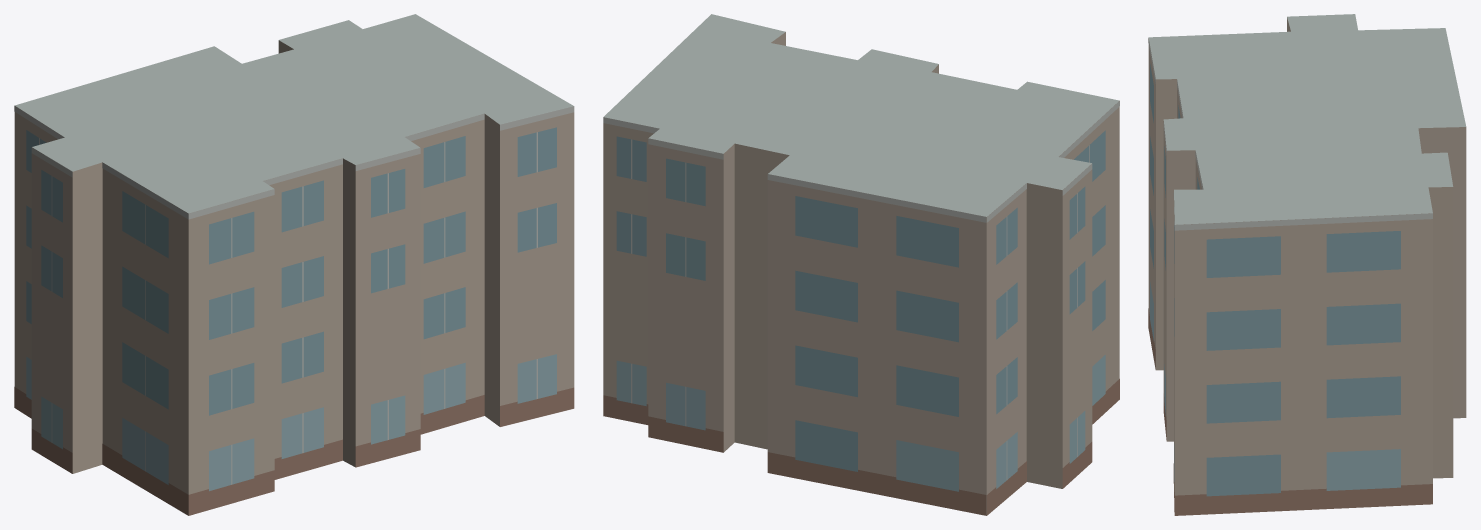
The model's file is survey-upis-32757056.glb.
3 views of the same model, side by side, from view 1: azimuth 30°, elevation 25°; view 2: azimuth 150°, elevation 25°; view 3: azimuth 270°, elevation 25° (orthographic). The views are drawn at different scales.
Parts seen in each view (by area): view 1: survey-upis-32757056.tmp; view 2: survey-upis-32757056.tmp; view 3: survey-upis-32757056.tmp.
Boxes of the visible parts, bbox=[...] form: survey-upis-32757056.tmp: bbox=[14, 14, 574, 515]; survey-upis-32757056.tmp: bbox=[603, 14, 1119, 515]; survey-upis-32757056.tmp: bbox=[1148, 14, 1466, 515].
Size of the model in its own units: 18.97 by 12.2 by 12.08.
